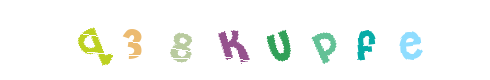3: (118, 0, 198, 80)
8: (193, 0, 273, 80)
E: (354, 0, 434, 80)
F: (324, 0, 404, 80)
K: (204, 0, 284, 80)
P: (281, 0, 361, 80)
Q: (54, 0, 134, 80)
U: (240, 0, 320, 80)
